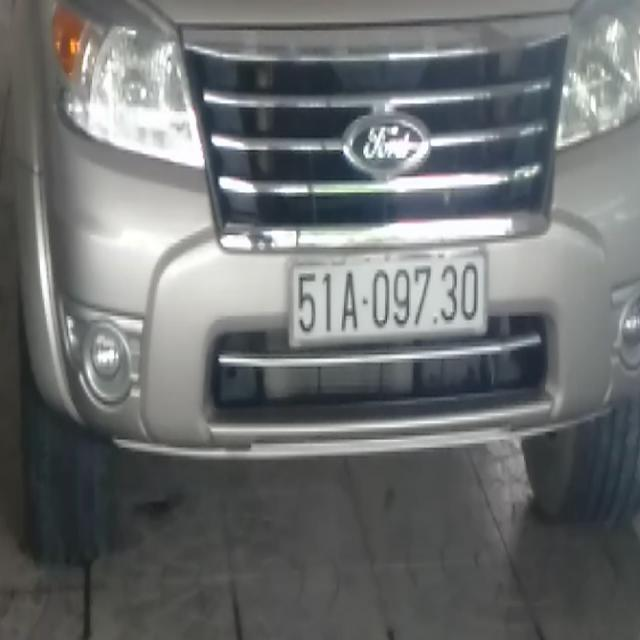bien_trang: (286, 258, 490, 352)
